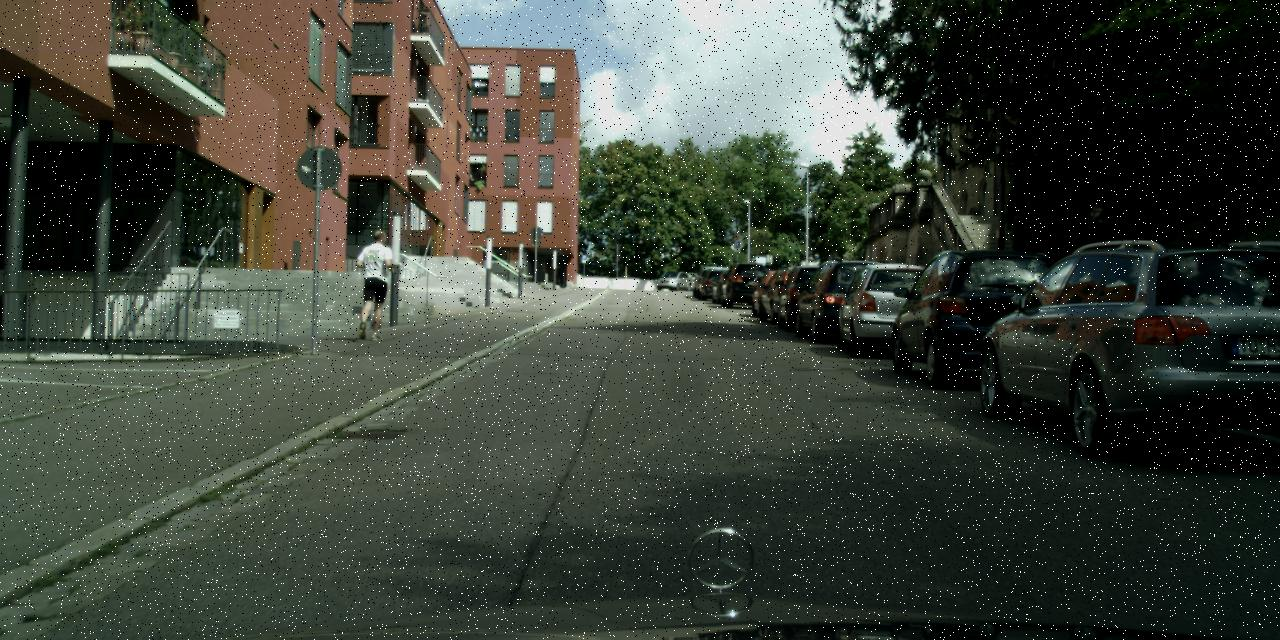ped: (352, 230, 396, 338)
